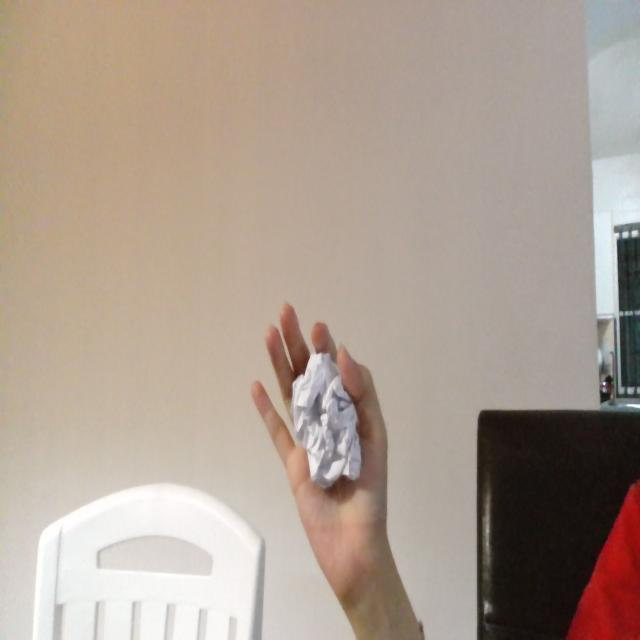crumpled_paper: (288, 342, 364, 492)
